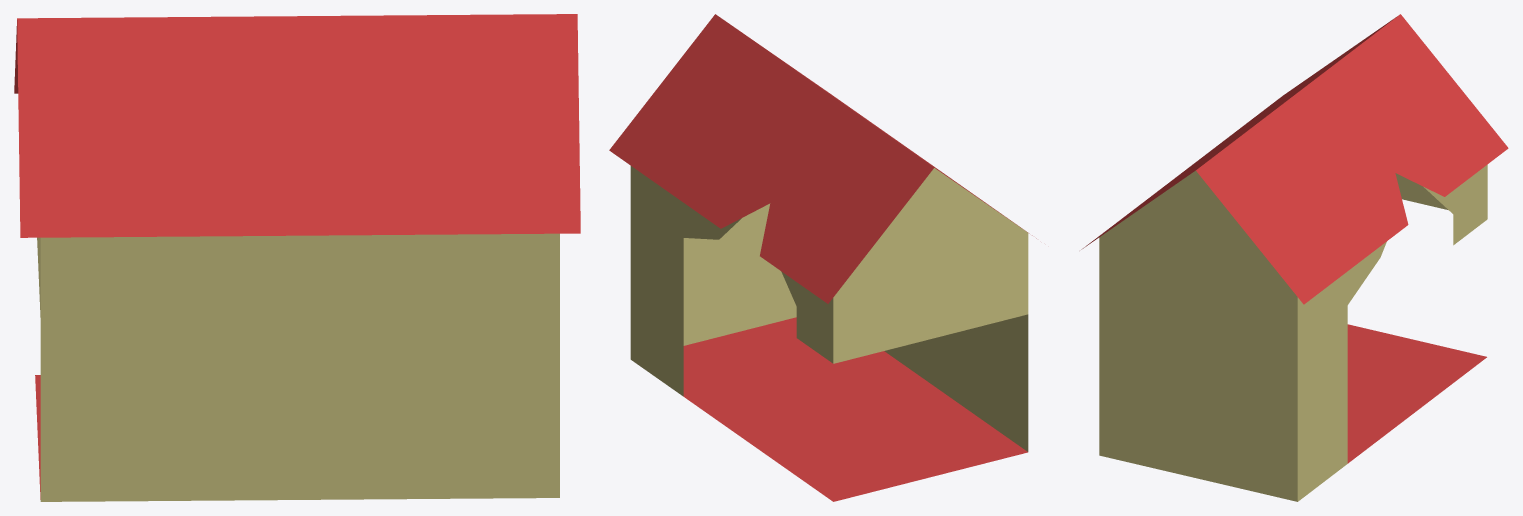
3 views of the same model, side by side, from view 1: azimuth 30°, elevation 25°; view 2: azimuth 150°, elevation 25°; view 3: azimuth 270°, elevation 25° (orthographic). The views are drawn at different scales.
Bounding box in the file's own units: 23.91 × 20.79 × 16.79.
